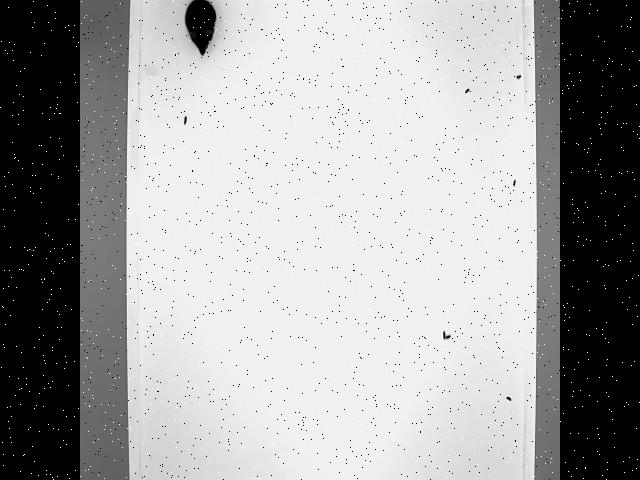Tikus: (141, 0, 218, 56)
